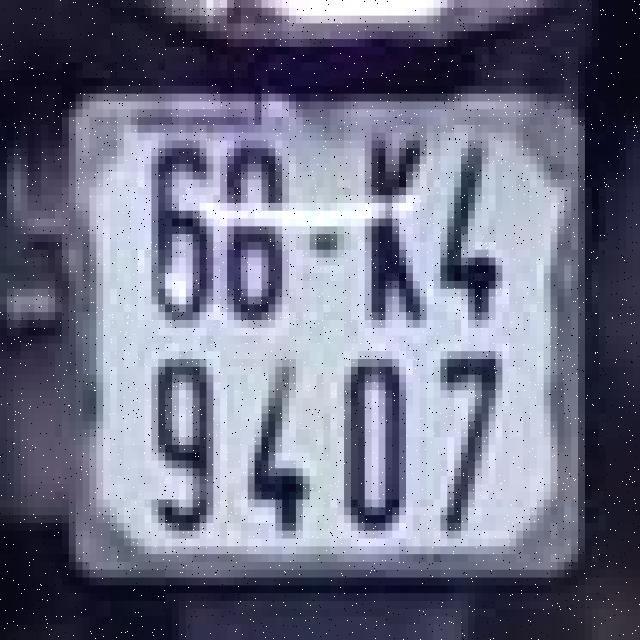0: (334, 348, 409, 550)
4: (437, 136, 526, 332), (134, 125, 217, 328), (241, 355, 316, 550)
7: (427, 347, 516, 535)
8: (220, 136, 296, 332)
9: (124, 348, 227, 550)
K: (334, 121, 430, 339)
